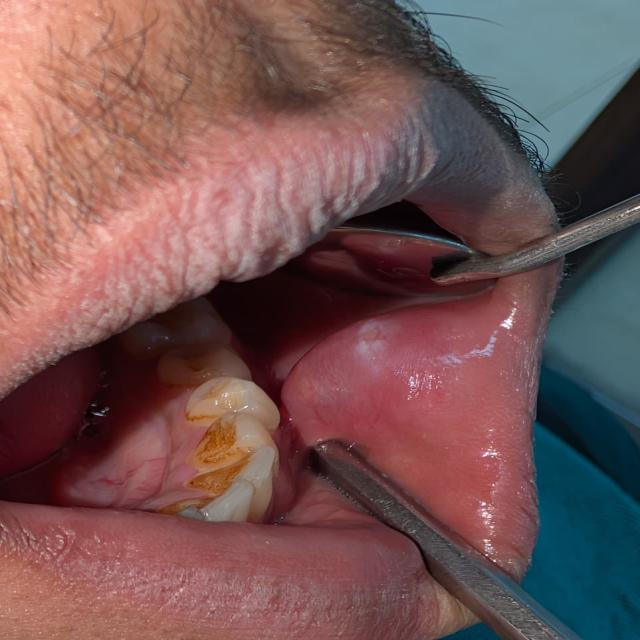leukoplakia-detection: (290, 299, 515, 533)
processing_area: (9, 87, 556, 394), (272, 270, 538, 556), (56, 386, 212, 512)
